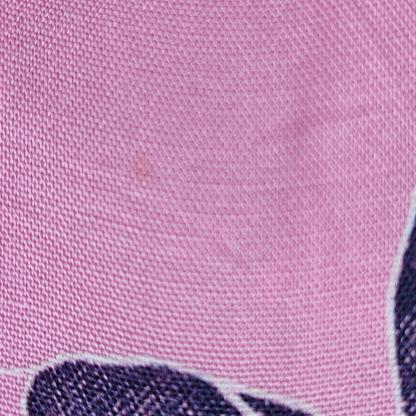spot: (117, 117, 167, 193)
